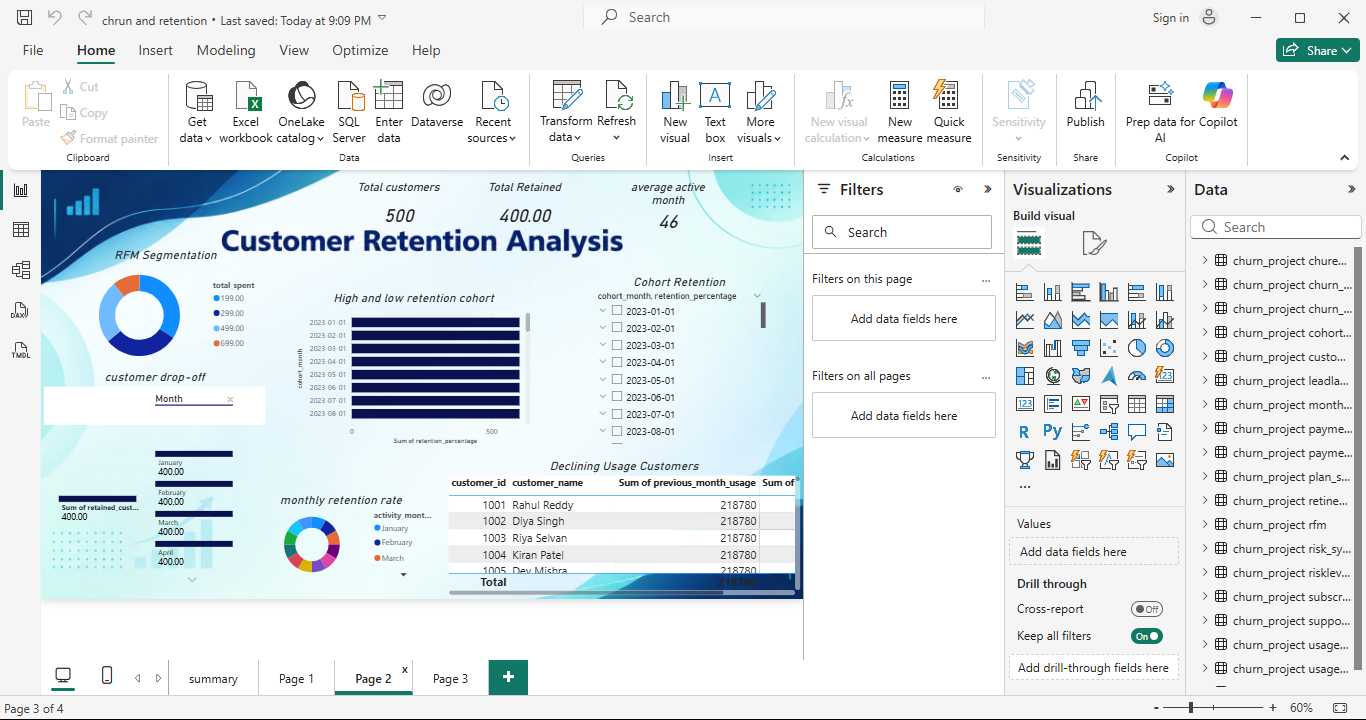

The page's visual inventory and layout, read from the dashboard file:
{"tool":"powerbi","page":{"name":"Page 2","canvas":[1280,720],"ordinal":2},"visuals":[{"type":"donutChart","title":"monthly retention rate","fields":{"Category":["churn_project cohort_symmary.activity_month.Variation.Date Hierarchy.Month","churn_project cohort_symmary.activity_month.Variation.Date Hierarchy.Day"],"Y":["Sum(churn_project churn_symmary.retained_customers)"]},"box":[346.4,542.9,316.1,150],"z":0},{"type":"slicer","title":"Cohort Retention","fields":{"Values":["churn_project cohort_symmary.cohort_month","churn_project cohort_symmary.retention_percentage"]},"box":[921.4,176.8,300,289.3],"z":1000},{"type":"barChart","title":"High and low retention cohort","fields":{"Category":["churn_project cohort_symmary.cohort_month"],"Y":["Sum(churn_project cohort_symmary.retention_percentage)"]},"box":[425,203.6,401.8,262.5],"z":2000},{"type":"decompositionTreeVisual","title":"customer drop-off","fields":{"ExplainBy":["churn_project cohort_symmary.activity_month.Variation.Date Hierarchy.Month"],"Analyze":["Sum(churn_project churn_symmary.retained_customers)"]},"box":[0,335.7,382.1,383.9],"z":3000},{"type":"card","title":"average active month","fields":{"Values":["Count(churn_project cohort_symmary.activity_month)"]},"box":[957.1,16.1,191.1,92.9],"z":4000},{"type":"tableEx","title":"Declining Usage Customers","fields":{"Values":["churn_project customers.customer_id","churn_project customers.customer_name","Sum(churn_project leadlag_symmary.previous_month_usage)","Sum(churn_project leadlag_symmary.next_month_usage)"]},"box":[678.6,485.7,601.8,233.9],"z":5000},{"type":"donutChart","title":"RFM Segmentation","fields":{"Y":["CountNonNull(churn_project rfm.customer_id)"],"Category":["churn_project rfm.total_spent"]},"box":[37.5,130.4,344.6,203.6],"z":6000},{"type":"card","title":"Total Retained ","fields":{"Values":["Sum(churn_project churn_symmary.retained_customers)"]},"box":[717.9,16.1,189.3,92.9],"z":7000},{"type":"card","title":"Total customers","fields":{"Values":["CountNonNull(churn_project churn_flags.customer_id)"]},"box":[505.4,16.1,189.3,92.9],"z":8000}]}

Visuals, with their boxes on the page's 1280x720 design canvas (x1, y1, x2, y2). These are canvas units, not pixel positions in the 1366x720 screenshot, which may show the page scaled, cropped or inside an application window:
"monthly retention rate" donutChart: x1=346, y1=543, x2=662, y2=693
"Cohort Retention" slicer: x1=921, y1=177, x2=1221, y2=466
"High and low retention cohort" barChart: x1=425, y1=204, x2=827, y2=466
"customer drop-off" decompositionTreeVisual: x1=0, y1=336, x2=382, y2=720
"average active month" card: x1=957, y1=16, x2=1148, y2=109
"Declining Usage Customers" tableEx: x1=679, y1=486, x2=1280, y2=720
"RFM Segmentation" donutChart: x1=38, y1=130, x2=382, y2=334
"Total Retained " card: x1=718, y1=16, x2=907, y2=109
"Total customers" card: x1=505, y1=16, x2=695, y2=109
